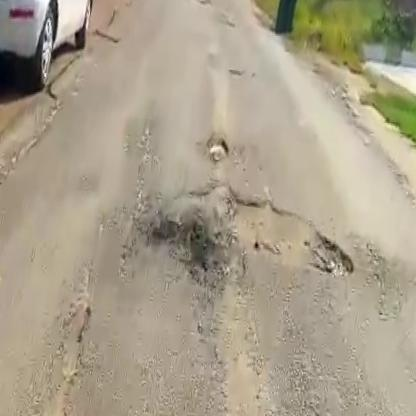pothole: (185, 180, 367, 286), (201, 131, 233, 166)
